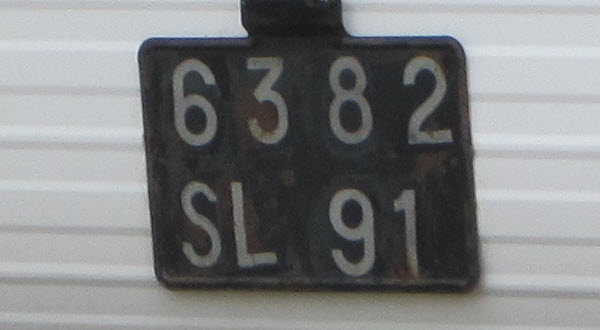license_plate: (136, 37, 481, 294)
